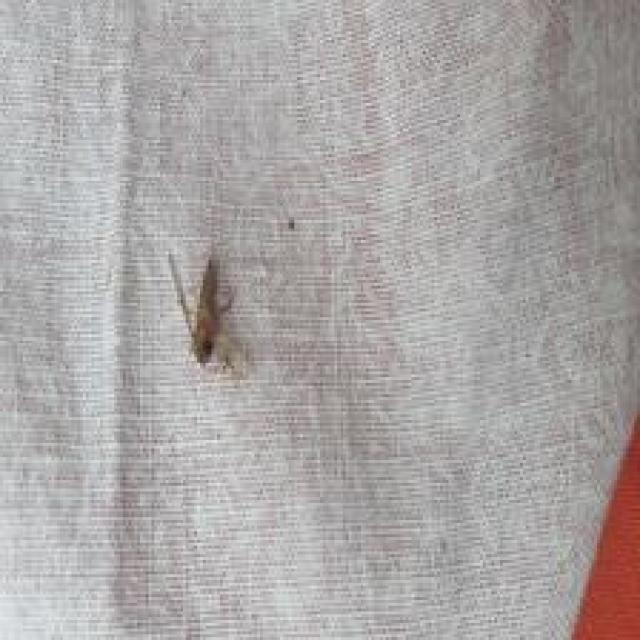Culex: (165, 249, 248, 374)
